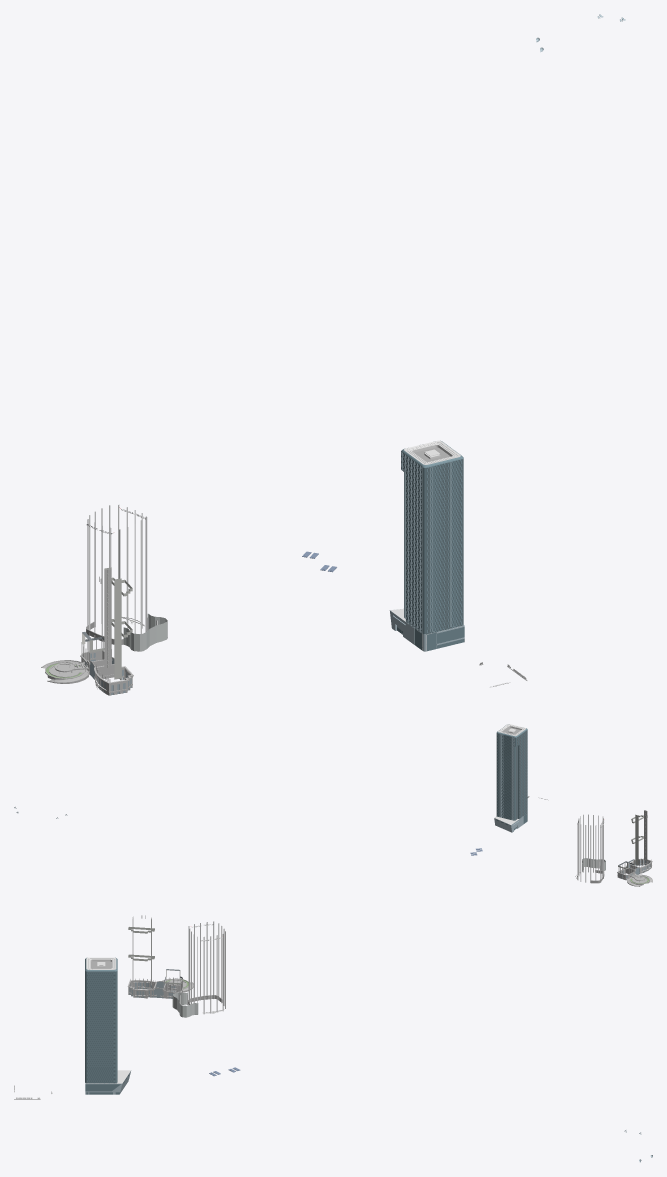
The model's file is lujiazui-21.glb.
3 renders of one model, top to bottom at view 1: azimuth 30°, elevation 25°; view 2: azimuth 150°, elevation 25°; view 3: azimuth 270°, elevation 25°, orthographic. The views are drawn at different scales.
Visible parts, largest first — view 1: source_2994_Mat3d66-1303573-2120-8235_part0, source_2993_Mat3d66-1303573-2119-613_part0, source_2955_未来资产大厦_柱_part0, source_2963__part0, source_2968_震旦大厦-墙贴图2_part0, source_2969_震旦大厦-墙贴图3_part0, source_2950_未来资产大厦_玻璃2_part0; view 2: source_2994_Mat3d66-1303573-2120-8235_part0, source_2993_Mat3d66-1303573-2119-613_part0, source_2955_未来资产大厦_柱_part0, source_2968_震旦大厦-墙贴图2_part0, source_2963__part0, source_2969_震旦大厦-墙贴图3_part0, source_2996_Mat3d66-1303573-11-3935_part0; view 3: source_2994_Mat3d66-1303573-2120-8235_part0, source_2955_未来资产大厦_柱_part0, source_2996_Mat3d66-1303573-11-3935_part0, source_2968_震旦大厦-墙贴图2_part0, source_2950_未来资产大厦_玻璃2_part0, source_2964_震旦大厦-玻璃_part0, source_2993_Mat3d66-1303573-2119-613_part0, source_2963__part0.
Part boxes in pixels (x1=…): source_2994_Mat3d66-1303573-2120-8235_part0: x1=397, y1=440, x2=464, y2=651; source_2993_Mat3d66-1303573-2119-613_part0: x1=389, y1=452, x2=464, y2=651; source_2955_未来资产大厦_柱_part0: x1=87, y1=505, x2=165, y2=635; source_2963__part0: x1=81, y1=567, x2=132, y2=679; source_2968_震旦大厦-墙贴图2_part0: x1=41, y1=650, x2=133, y2=692; source_2969_震旦大厦-墙贴图3_part0: x1=81, y1=569, x2=111, y2=685; source_2950_未来资产大厦_玻璃2_part0: x1=123, y1=613, x2=167, y2=651; source_2994_Mat3d66-1303573-2120-8235_part0: x1=496, y1=725, x2=527, y2=830; source_2993_Mat3d66-1303573-2119-613_part0: x1=494, y1=730, x2=527, y2=832; source_2955_未来资产大厦_柱_part0: x1=577, y1=814, x2=604, y2=882; source_2968_震旦大厦-墙贴图2_part0: x1=617, y1=858, x2=652, y2=886; source_2963__part0: x1=618, y1=810, x2=647, y2=869; source_2969_震旦大厦-墙贴图3_part0: x1=618, y1=810, x2=651, y2=874; source_2996_Mat3d66-1303573-11-3935_part0: x1=494, y1=724, x2=526, y2=824; source_2994_Mat3d66-1303573-2120-8235_part0: x1=85, y1=957, x2=128, y2=1094; source_2955_未来资产大厦_柱_part0: x1=174, y1=921, x2=225, y2=1014; source_2996_Mat3d66-1303573-11-3935_part0: x1=86, y1=957, x2=130, y2=1083; source_2968_震旦大厦-墙贴图2_part0: x1=127, y1=978, x2=193, y2=996; source_2950_未来资产大厦_玻璃2_part0: x1=172, y1=992, x2=198, y2=1017; source_2964_震旦大厦-玻璃_part0: x1=129, y1=981, x2=182, y2=998; source_2993_Mat3d66-1303573-2119-613_part0: x1=85, y1=971, x2=131, y2=1094; source_2963__part0: x1=128, y1=917, x2=182, y2=985.
Bounding box in the file's own units: 1105 × 214 × 983.
